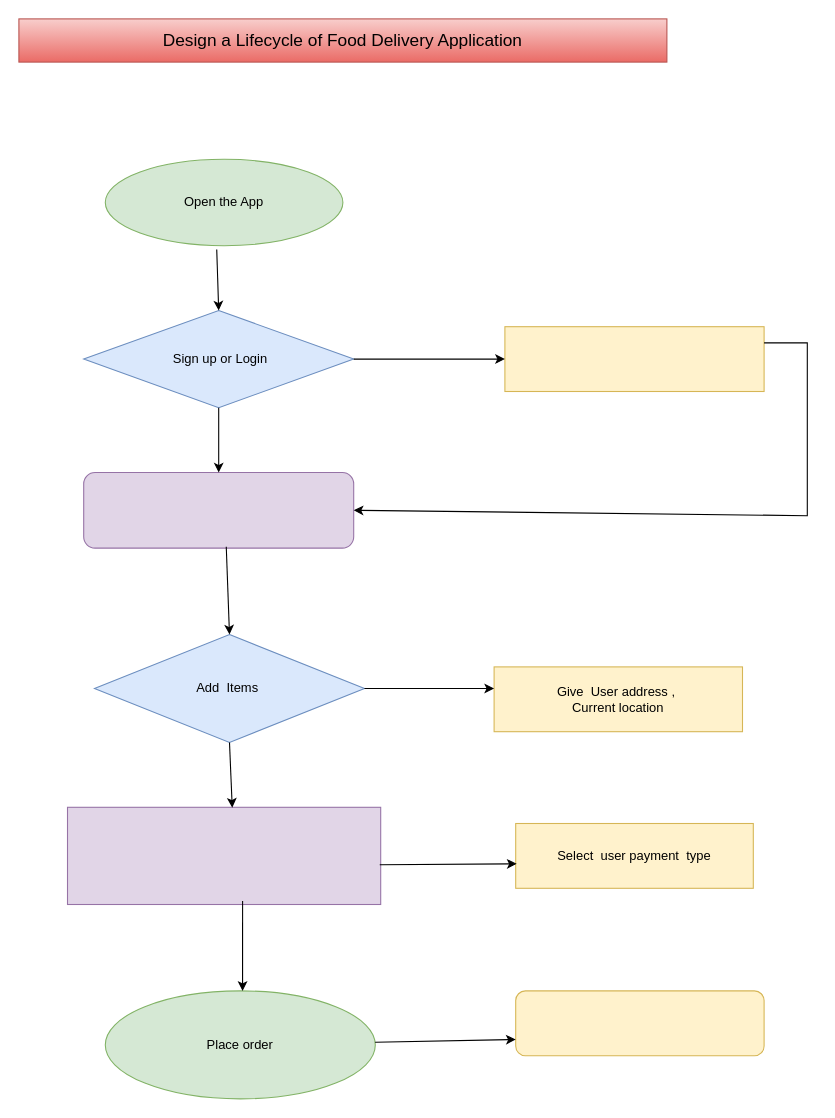
Some shapes in this 835 by 1118 pixel diagram are drawn without their labels. The shapes that lost their labels are listed below. From the top down, each one's centre as x and y in pixels, then its label:
At (634,359): "Enter user name , phone number enter OTP".
At (218,509): "Search User qruaries".
At (223,855): "Click on Pay".
At (639,1023): "Successfully place order".
